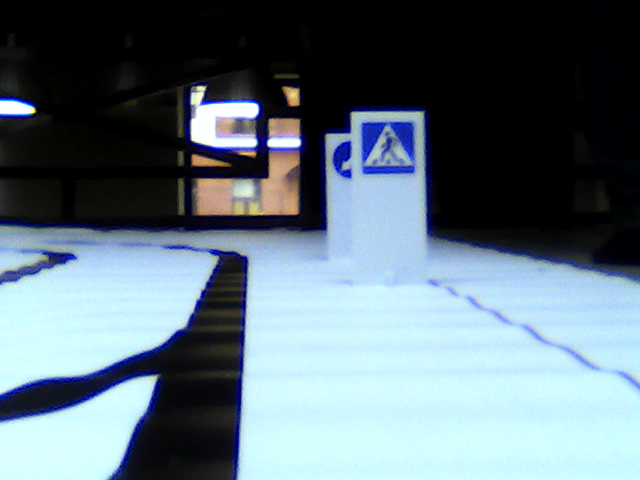pesh: (359, 122, 415, 176)
